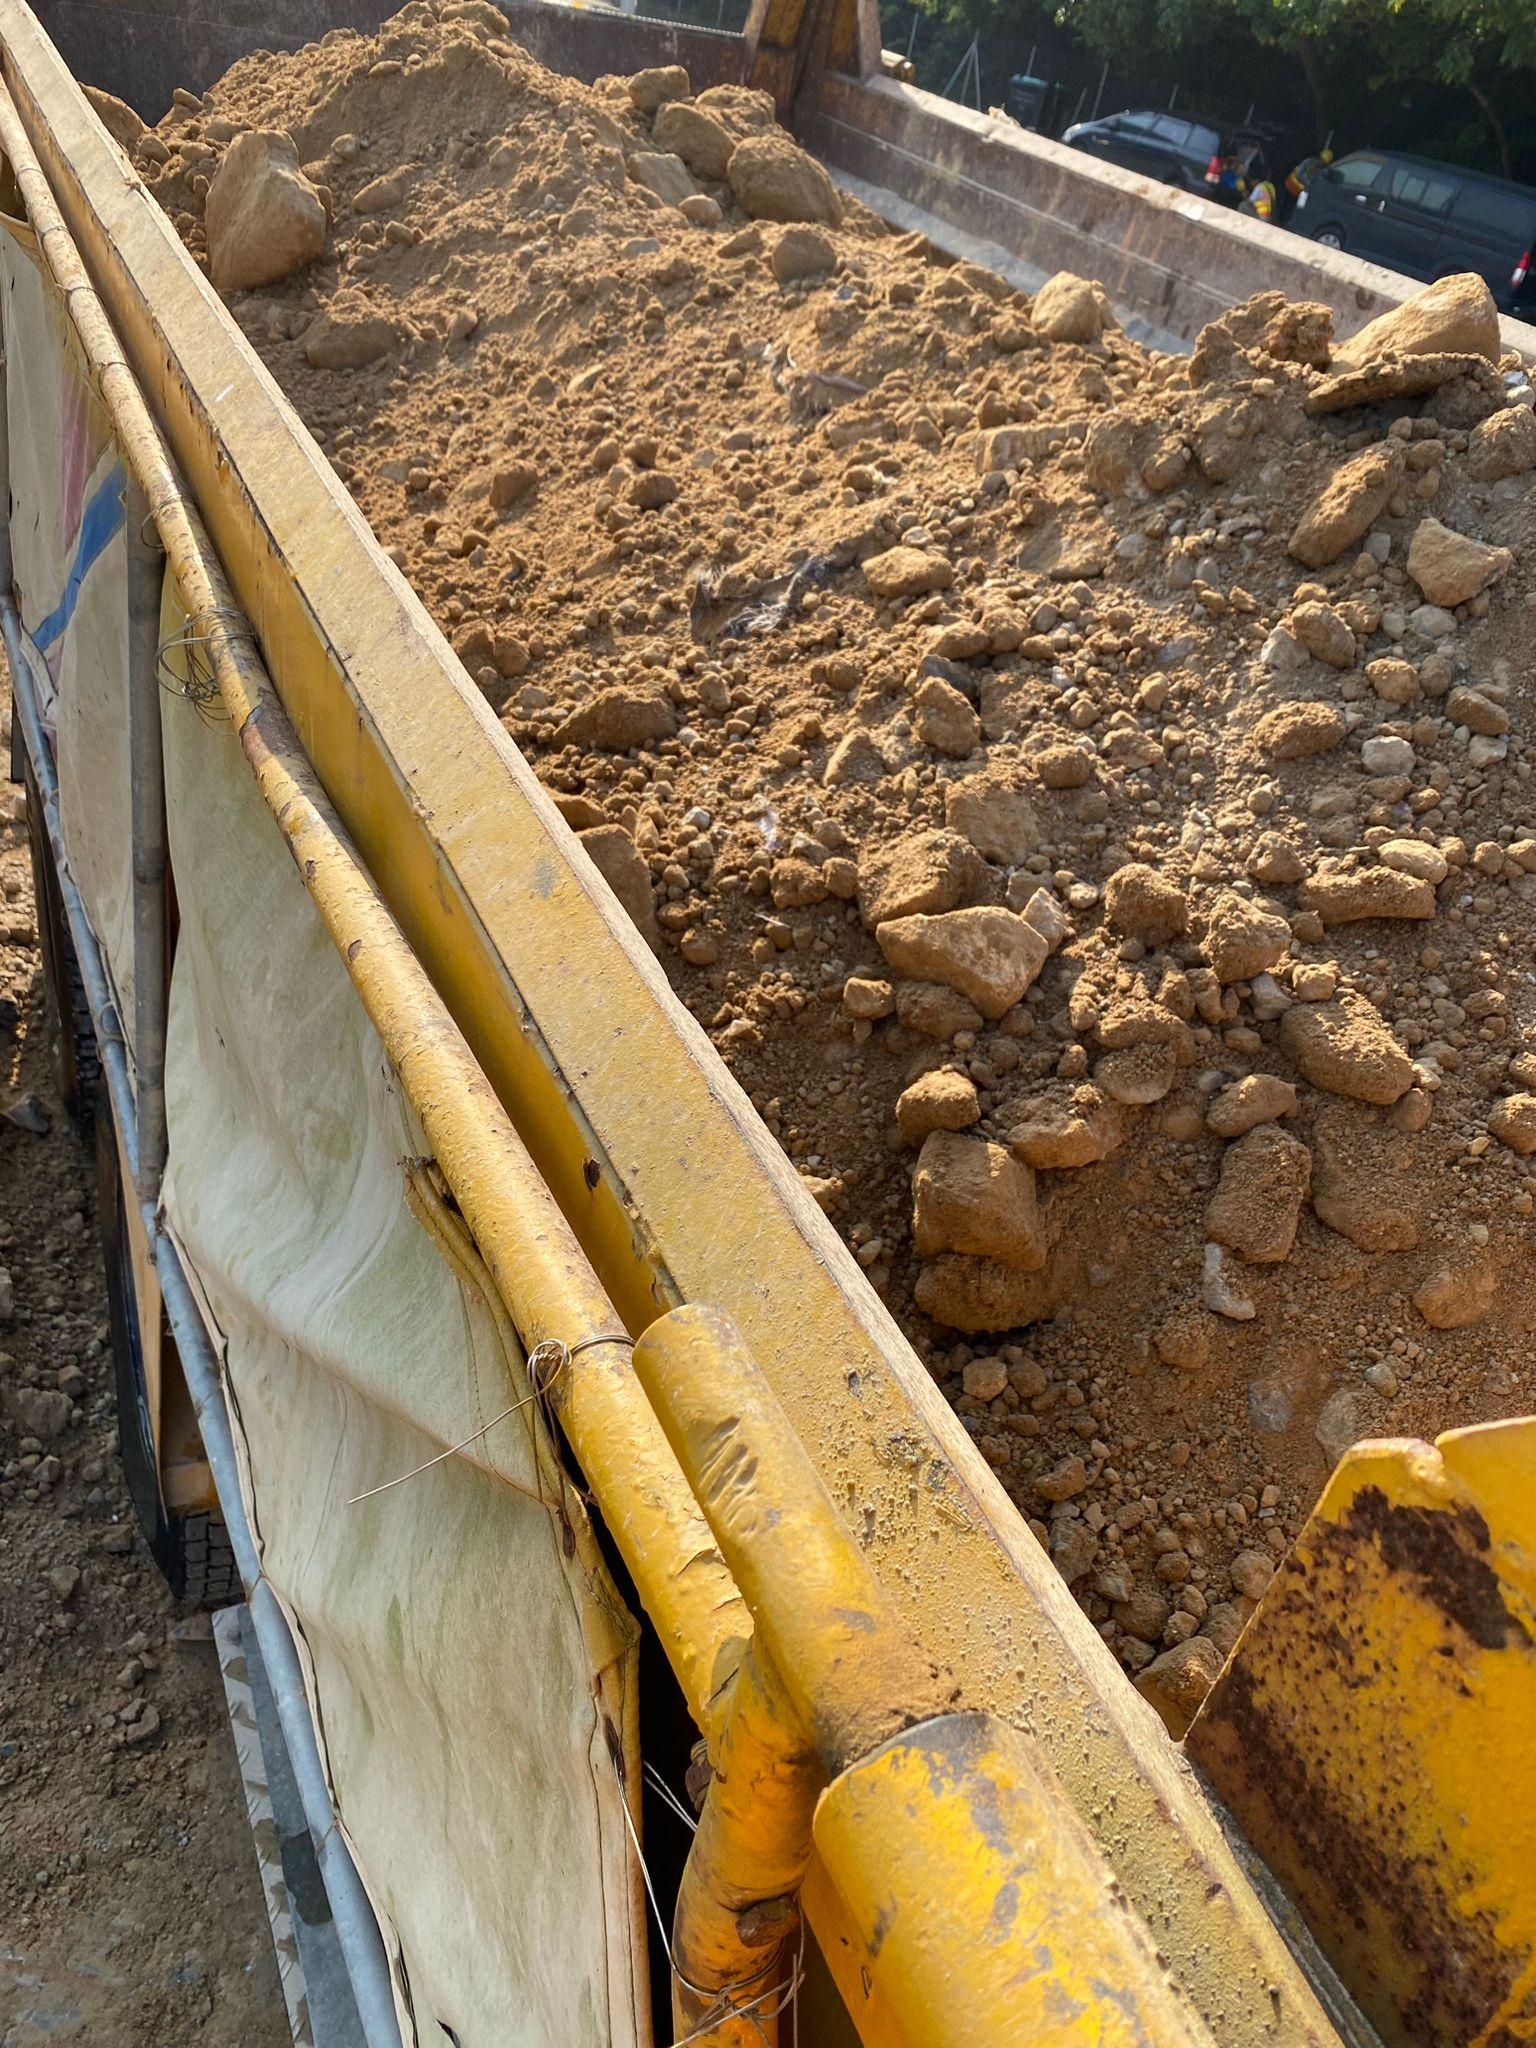stone: (85, 0, 1534, 1731), (1302, 269, 1501, 417), (874, 901, 1051, 1018), (201, 128, 328, 290), (909, 1128, 1047, 1271), (1278, 989, 1415, 1105), (1203, 1121, 1312, 1263), (1286, 442, 1403, 566), (854, 826, 985, 928), (725, 131, 844, 227), (1404, 515, 1513, 607), (1295, 859, 1436, 924), (1028, 269, 1112, 343), (910, 674, 980, 757), (1253, 697, 1345, 759), (859, 543, 952, 598)
